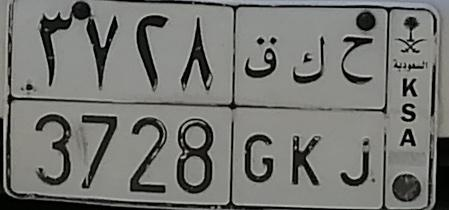2: (129, 12, 167, 195)
3: (32, 12, 77, 186)
7: (79, 13, 120, 189)
8: (175, 16, 215, 193)
G: (243, 34, 278, 184)
J: (338, 35, 374, 187)
K: (291, 32, 326, 190)
